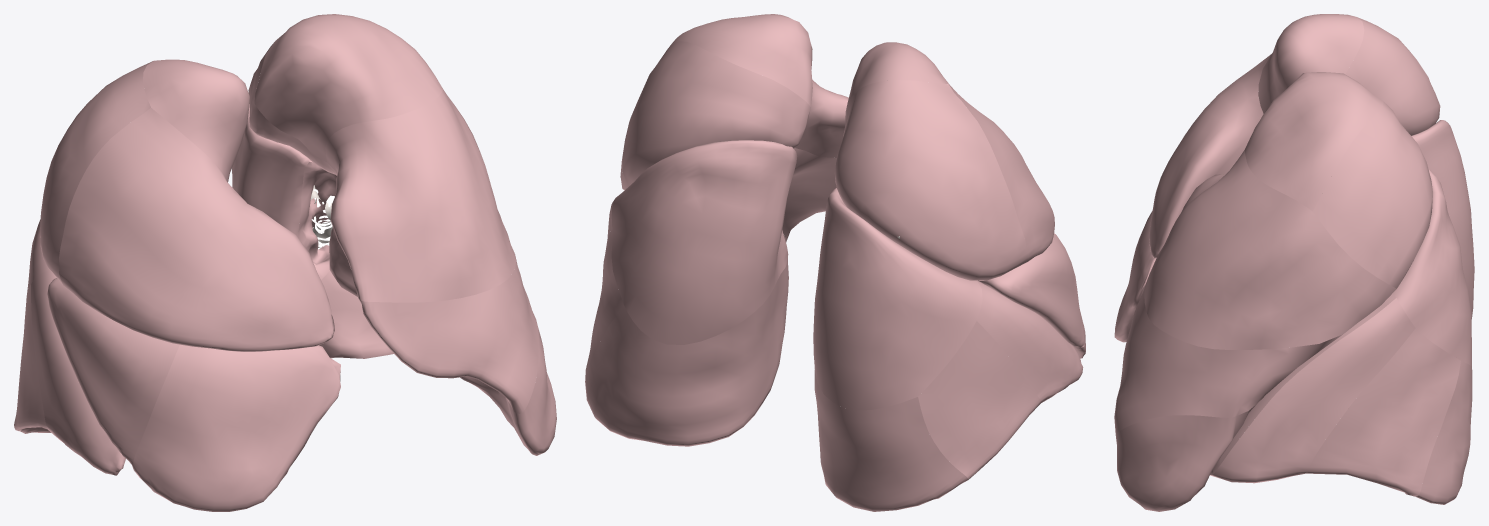
File: lung-male.glb
3 views of the same model, side by side, from view 1: azimuth 30°, elevation 25°; view 2: azimuth 150°, elevation 25°; view 3: azimuth 270°, elevation 25° (orthographic). The views are drawn at different scales.
Parts seen in each view (by area): view 1: VH_M_right_anterior_bronchopulmonary_segment, VH_M_left_anterior_bronchopulmonary_segment, VH_M_right_medial_bronchopulmonary_segment, VH_M_left_apical_bronchopulmonary_segment, VH_M_left_lingula_superior_bronchopulmonary_segment, VH_M_right_lateral_bronchopulmonary_segment, VH_M_right_apical_bronchopulmonary_segment, VH_M_right_posterior_bronchopulmonary_segment, VH_M_right_anterior_basal_bronchopulmonary_segment, VH_M_left_superior_bronchopulmonary_segment, VH_M_left_lingula_inferior_bronchopulmonary_segment, VH_M_left_medial_basal_bronchopulmonary_segment (+5 smaller); view 2: VH_M_left_superior_bronchopulmonary_segment, VH_M_right_posterior_bronchopulmonary_segment, VH_M_right_superior_bronchopulmonary_segment, VH_M_left_posetrior_basal_bronchopulmonary_segment, VH_M_left_posterior_bronchopulmonary_segment, VH_M_right_posterior_basal_bronchopulmonary_segment, VH_M_right_lateral_basal_bronchopulmonary_segment, VH_M_left_apical_bronchopulmonary_segment, VH_M_right_anterior_basal_bronchopulmonary_segment, VH_M_right_lateral_bronchopulmonary_segment, VH_M_right_anterior_bronchopulmonary_segment, VH_M_left_lingula_superior_bronchopulmonary_segment (+3 smaller); view 3: VH_M_left_anterior_bronchopulmonary_segment, VH_M_left_lateral_basal_bronchopulmonary_segment, VH_M_left_posterior_bronchopulmonary_segment, VH_M_left_anterior_basal_bronchopulmonary_segment, VH_M_left_lingula_superior_bronchopulmonary_segment, VH_M_left_apical_bronchopulmonary_segment, VH_M_left_lingula_inferior_bronchopulmonary_segment, VH_M_right_anterior_bronchopulmonary_segment, VH_M_left_superior_bronchopulmonary_segment, VH_M_right_apical_bronchopulmonary_segment, VH_M_right_posterior_bronchopulmonary_segment, VH_M_left_posetrior_basal_bronchopulmonary_segment (+3 smaller).
Boxes of the visible parts, bbox=[...] form: VH_M_right_anterior_bronchopulmonary_segment: bbox=[59, 108, 334, 351]; VH_M_left_anterior_bronchopulmonary_segment: bbox=[325, 89, 516, 302]; VH_M_right_medial_bronchopulmonary_segment: bbox=[132, 344, 340, 511]; VH_M_left_apical_bronchopulmonary_segment: bbox=[254, 14, 442, 162]; VH_M_left_lingula_superior_bronchopulmonary_segment: bbox=[359, 256, 538, 413]; VH_M_right_lateral_bronchopulmonary_segment: bbox=[47, 278, 179, 465]; VH_M_right_apical_bronchopulmonary_segment: bbox=[143, 59, 249, 182]; VH_M_right_posterior_bronchopulmonary_segment: bbox=[40, 61, 152, 284]; VH_M_right_anterior_basal_bronchopulmonary_segment: bbox=[31, 269, 125, 475]; VH_M_left_superior_bronchopulmonary_segment: bbox=[232, 104, 312, 237]; VH_M_left_lingula_inferior_bronchopulmonary_segment: bbox=[329, 245, 556, 455]; VH_M_left_medial_basal_bronchopulmonary_segment: bbox=[319, 271, 393, 358]; VH_M_left_superior_bronchopulmonary_segment: bbox=[611, 140, 797, 344]; VH_M_right_posterior_bronchopulmonary_segment: bbox=[834, 80, 1027, 280]; VH_M_right_superior_bronchopulmonary_segment: bbox=[813, 187, 982, 410]; VH_M_left_posetrior_basal_bronchopulmonary_segment: bbox=[585, 262, 788, 446]; VH_M_left_posterior_bronchopulmonary_segment: bbox=[622, 41, 810, 186]; VH_M_right_posterior_basal_bronchopulmonary_segment: bbox=[814, 369, 968, 511]; VH_M_right_lateral_basal_bronchopulmonary_segment: bbox=[918, 321, 1040, 479]; VH_M_left_apical_bronchopulmonary_segment: bbox=[669, 14, 812, 106]; VH_M_right_anterior_basal_bronchopulmonary_segment: bbox=[976, 280, 1083, 402]; VH_M_right_lateral_bronchopulmonary_segment: bbox=[978, 233, 1084, 348]; VH_M_right_anterior_bronchopulmonary_segment: bbox=[949, 84, 1054, 261]; VH_M_left_lingula_superior_bronchopulmonary_segment: bbox=[623, 148, 836, 239]; VH_M_left_anterior_bronchopulmonary_segment: bbox=[1144, 149, 1396, 349]; VH_M_left_lateral_basal_bronchopulmonary_segment: bbox=[1306, 328, 1460, 496]; VH_M_left_posterior_bronchopulmonary_segment: bbox=[1313, 102, 1432, 288]; VH_M_left_anterior_basal_bronchopulmonary_segment: bbox=[1210, 298, 1415, 483]; VH_M_left_lingula_superior_bronchopulmonary_segment: bbox=[1114, 282, 1391, 434]; VH_M_left_apical_bronchopulmonary_segment: bbox=[1245, 72, 1383, 211]; VH_M_left_lingula_inferior_bronchopulmonary_segment: bbox=[1115, 403, 1257, 511]; VH_M_right_anterior_bronchopulmonary_segment: bbox=[1149, 53, 1272, 258]; VH_M_left_superior_bronchopulmonary_segment: bbox=[1393, 168, 1471, 366]; VH_M_right_apical_bronchopulmonary_segment: bbox=[1258, 14, 1364, 113]; VH_M_right_posterior_bronchopulmonary_segment: bbox=[1345, 17, 1440, 135]; VH_M_left_posetrior_basal_bronchopulmonary_segment: bbox=[1416, 361, 1472, 504].
Size of the model in its own units: 0.2594 by 0.2291 by 0.1897.
